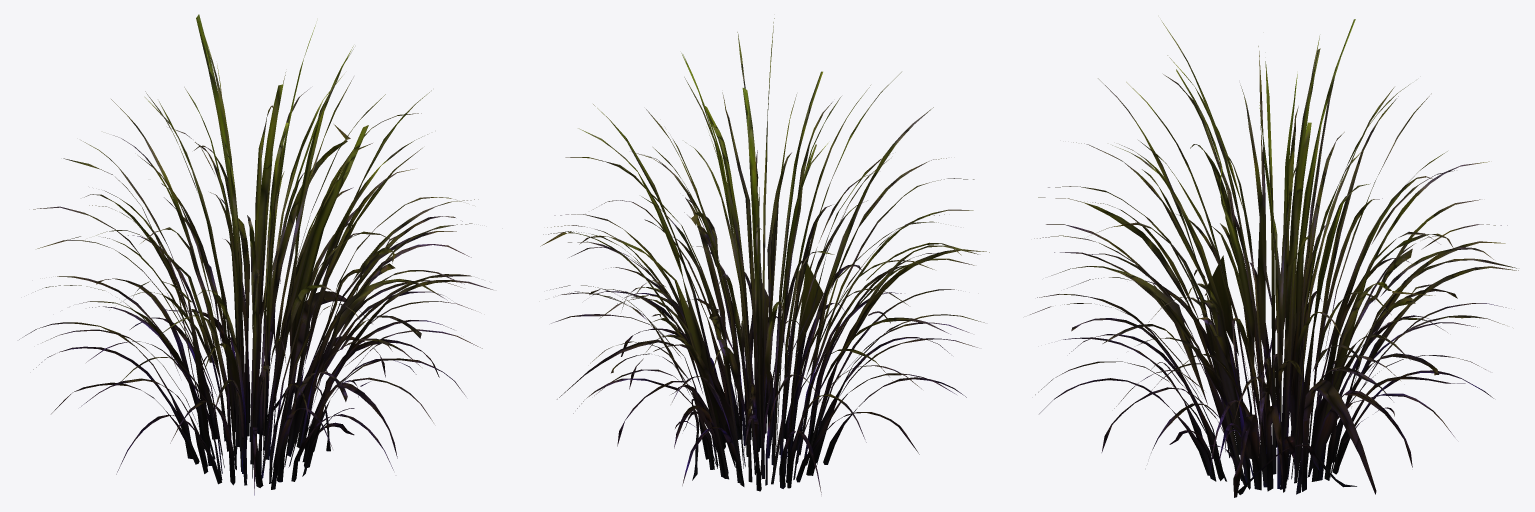
File: vegetation.tall-grass-01.lod0.glb
The picture shows the model from 3 angles, left to right: view 1: azimuth 30°, elevation 25°; view 2: azimuth 150°, elevation 25°; view 3: azimuth 270°, elevation 25°; orthographic projection. The views are drawn at different scales.
Visible parts, largest first — view 1: vegetation.tall-grass-01_LOD0_00; view 2: vegetation.tall-grass-01_LOD0_00; view 3: vegetation.tall-grass-01_LOD0_00.
Boxes of the visible parts, <box> form: vegetation.tall-grass-01_LOD0_00: <box>19,14,492,495</box>; vegetation.tall-grass-01_LOD0_00: <box>540,18,989,494</box>; vegetation.tall-grass-01_LOD0_00: <box>1030,19,1518,497</box>.
Bounding box in the file's own units: 0.9 × 0.9 × 0.9.
Materials: 1 (1 with a texture image).
